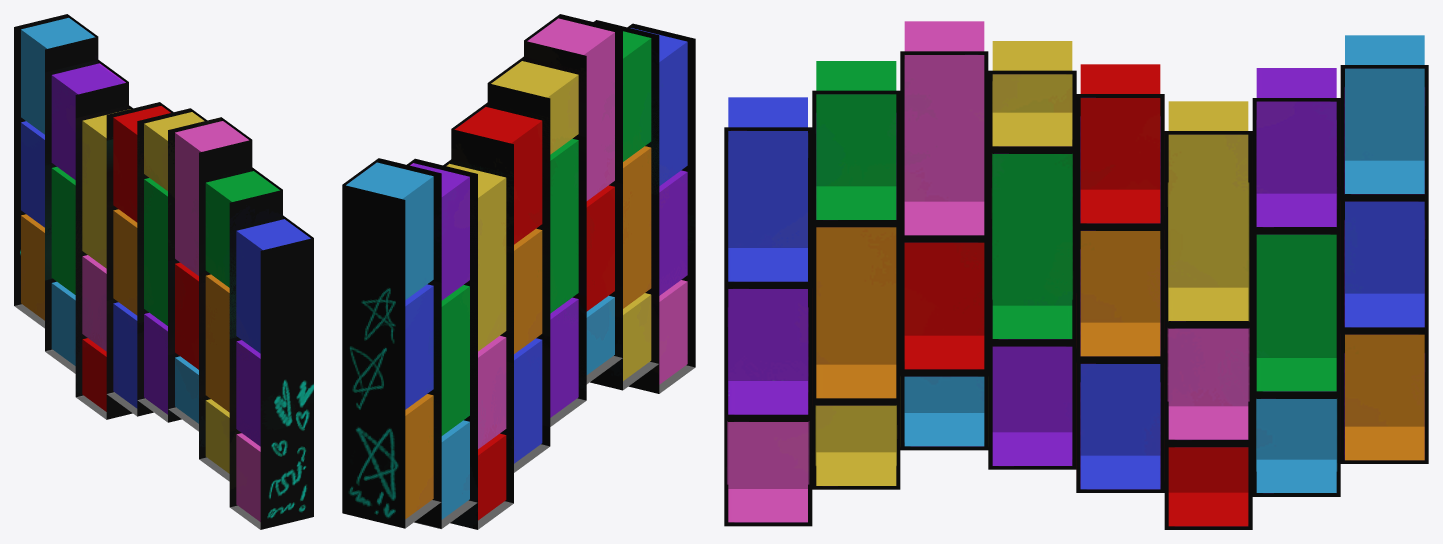
The model's file is PROP_025_BottleShelf.fbx.
3 views of the same model, side by side, from view 1: azimuth 30°, elevation 25°; view 2: azimuth 150°, elevation 25°; view 3: azimuth 270°, elevation 25° (orthographic). The views are drawn at different scales.
Visible parts, largest first — view 1: Aaaaaaa; view 2: Aaaaaaa; view 3: Aaaaaaa.
Boxes of the visible parts, x1,y1,x2,y2 form: Aaaaaaa: (14,14,313,529); Aaaaaaa: (342,14,695,529); Aaaaaaa: (724,21,1428,529).
Bounding box in the file's own units: 0.3804 × 2.28 × 3.04.
1 material, 1 textured.
